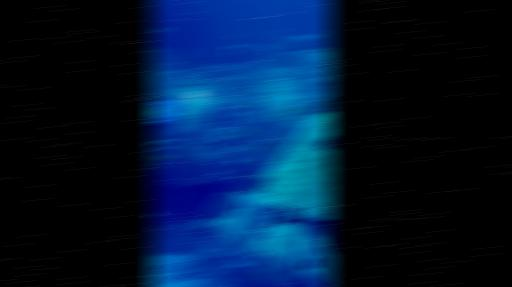Fish: (274, 206, 333, 254), (275, 30, 324, 49), (308, 96, 333, 119), (275, 206, 302, 226), (148, 139, 179, 149), (281, 105, 302, 117), (190, 218, 215, 227), (148, 155, 173, 164), (255, 175, 274, 186), (303, 257, 318, 268), (320, 138, 333, 150), (237, 127, 254, 136), (255, 44, 276, 51), (258, 140, 273, 149), (179, 145, 196, 152), (154, 28, 169, 32), (230, 160, 243, 164), (247, 100, 260, 104), (230, 175, 240, 180), (150, 212, 160, 217), (228, 45, 238, 49), (170, 62, 178, 67), (234, 141, 244, 144), (240, 45, 250, 48), (228, 51, 235, 55), (233, 34, 240, 38)
